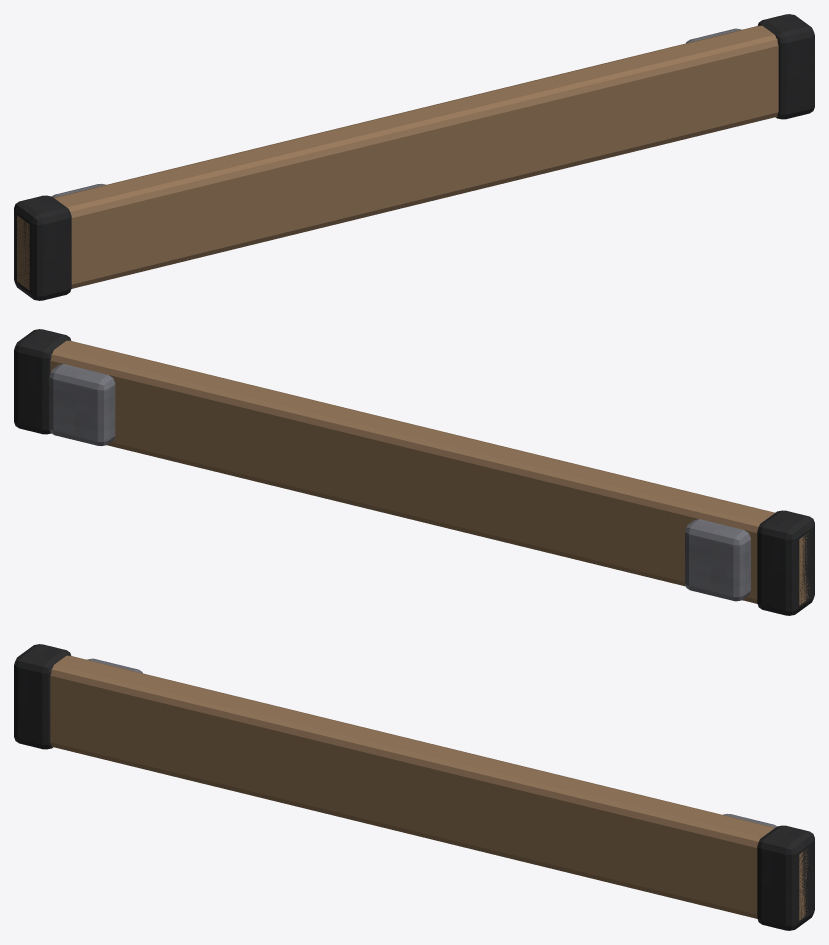
The model's file is lbd_wall_protection_rail.glb.
3 views of the same model, one above another, from view 1: azimuth 30°, elevation 25°; view 2: azimuth 150°, elevation 25°; view 3: azimuth 330°, elevation 25° (orthographic).
Parts seen in each view (by area): view 1: wall_protection_rail__rail_003, wall_protection_rail__end buffer_009, wall_protection_rail__end buffer_015; view 2: wall_protection_rail__rail_003, wall_protection_rail__end buffer_009, wall_protection_rail__stand off_012, wall_protection_rail__stand off_006, wall_protection_rail__end buffer_015; view 3: wall_protection_rail__rail_003, wall_protection_rail__end buffer_015, wall_protection_rail__end buffer_009.
Part boxes in pixels (box(x1,y1,x2,y2)): wall_protection_rail__rail_003: box(17, 25, 778, 290); wall_protection_rail__end buffer_009: box(14, 195, 71, 300); wall_protection_rail__end buffer_015: box(757, 14, 814, 119); wall_protection_rail__rail_003: box(50, 340, 810, 605); wall_protection_rail__end buffer_009: box(757, 510, 814, 615); wall_protection_rail__stand off_012: box(49, 364, 115, 446); wall_protection_rail__stand off_006: box(685, 519, 750, 601); wall_protection_rail__end buffer_015: box(14, 329, 71, 434); wall_protection_rail__rail_003: box(50, 655, 808, 920); wall_protection_rail__end buffer_015: box(757, 825, 814, 930); wall_protection_rail__end buffer_009: box(14, 644, 71, 749).
Bounding box in the file's own units: 1.6 × 0.17 × 0.12.
Materials: 3 (2 with a texture image).
